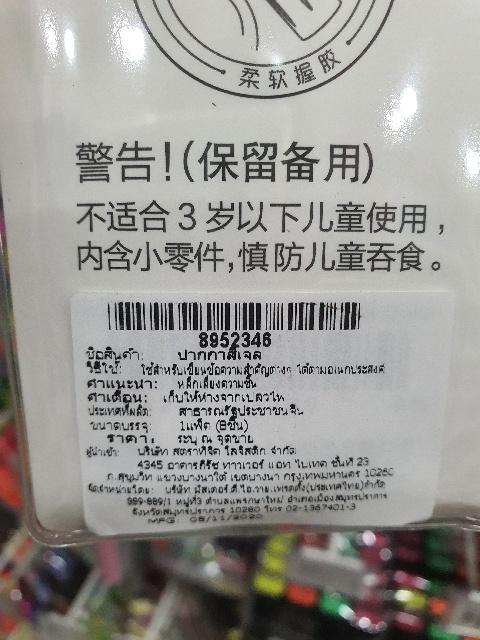Barcode: (102, 291, 370, 351)
